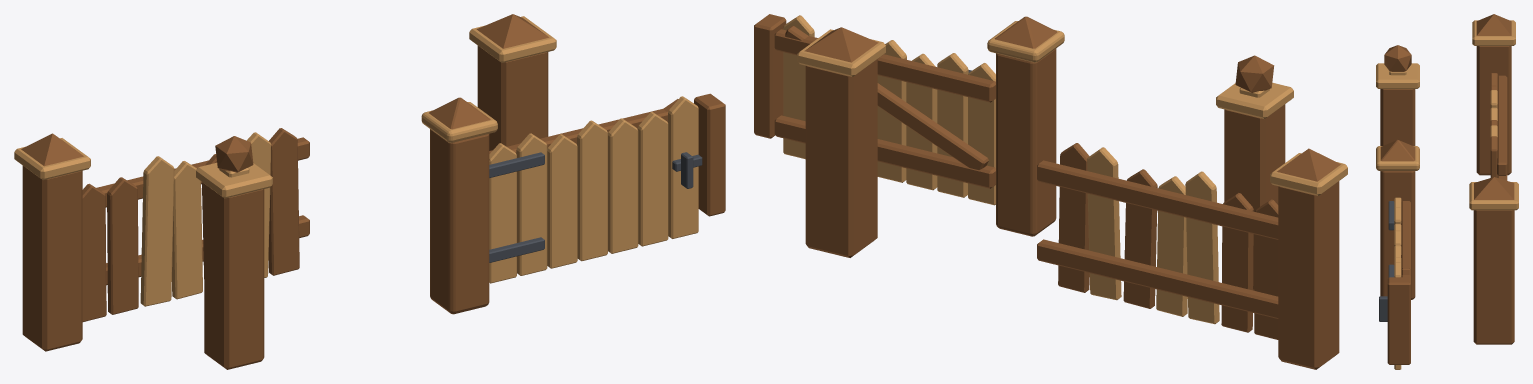
Rendered from wooden-fence-kit.glb.
The picture shows the model from 3 angles, left to right: view 1: azimuth 30°, elevation 25°; view 2: azimuth 150°, elevation 25°; view 3: azimuth 270°, elevation 25°; orthographic projection. The views are drawn at different scales.
Parts seen in each view (by area): view 1: Fence_Section, Door, Fence_Gate, Fence_EndPost, Fence_CornerPost; view 2: Fence_Section, Door, Fence_CornerPost, Fence_Gate, Fence_EndPost; view 3: Fence_CornerPost, Fence_Section, Fence_Gate, Fence_EndPost, Door.
Part boxes in pixels (left/top/right/bottom): Fence_Section: left=14, top=128, right=309, bottom=351; Door: left=489, top=96, right=702, bottom=283; Fence_Gate: left=421, top=93, right=725, bottom=314; Fence_EndPost: left=196, top=136, right=272, bottom=369; Fence_CornerPost: left=469, top=14, right=556, bottom=150; Fence_Section: left=1037, top=143, right=1347, bottom=369; Door: left=774, top=15, right=995, bottom=205; Fence_CornerPost: left=797, top=27, right=885, bottom=257; Fence_Gate: left=754, top=14, right=1064, bottom=236; Fence_EndPost: left=1216, top=55, right=1293, bottom=290; Fence_CornerPost: left=1469, top=177, right=1518, bottom=344; Fence_Section: left=1472, top=14, right=1515, bottom=180; Fence_Gate: left=1376, top=140, right=1419, bottom=364; Fence_EndPost: left=1376, top=45, right=1419, bottom=145; Door: left=1379, top=197, right=1410, bottom=369.
Size of the model in its own units: 18.59 by 6.3 by 4.89.
